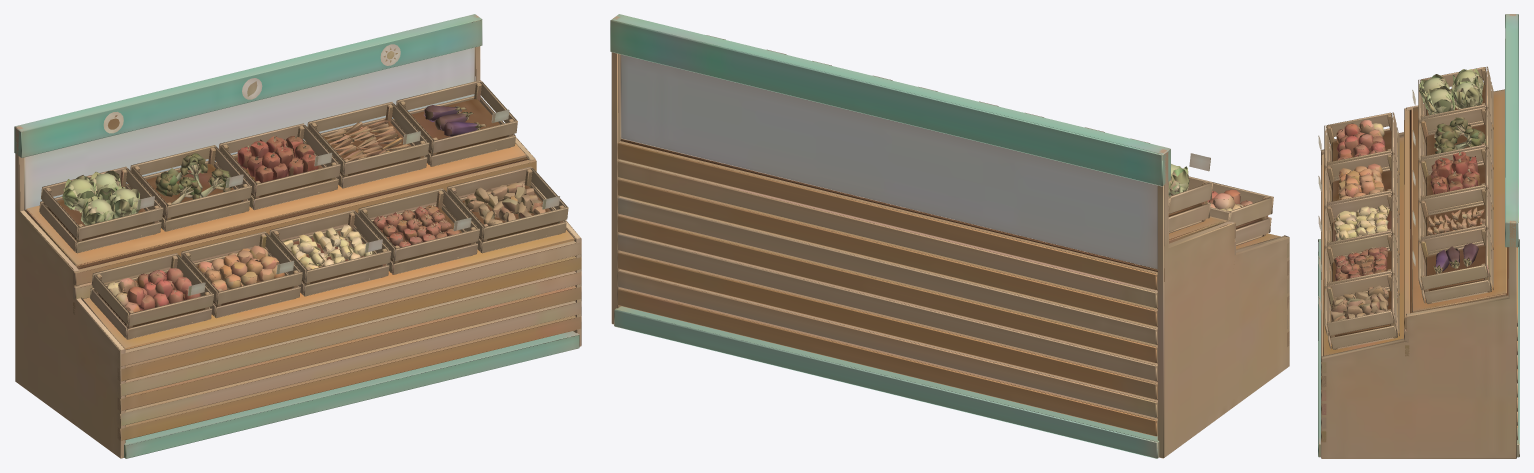
Rendered from produce-display-light.glb.
The picture shows the model from 3 angles, left to right: view 1: azimuth 30°, elevation 25°; view 2: azimuth 150°, elevation 25°; view 3: azimuth 270°, elevation 25°; orthographic projection. The views are drawn at different scales.
Parts seen in each view (by area): view 1: produce-display_body; view 2: produce-display_body; view 3: produce-display_body.
Boxes of the visible parts, x1,y1,x2,y2 form: produce-display_body: [14, 14, 581, 458]; produce-display_body: [610, 14, 1289, 458]; produce-display_body: [1318, 14, 1519, 458].
Size of the model in its own units: 2.5 by 1.32 by 1.02.
1 material, 1 textured.
